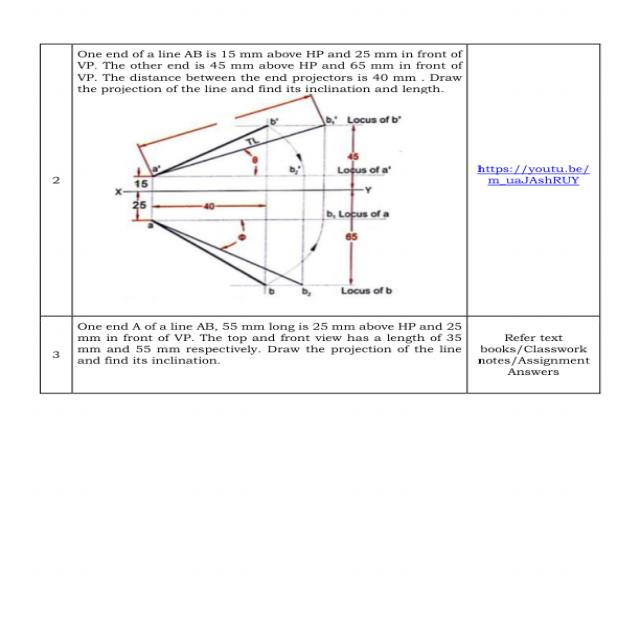Drawings: (93, 93, 414, 303)
